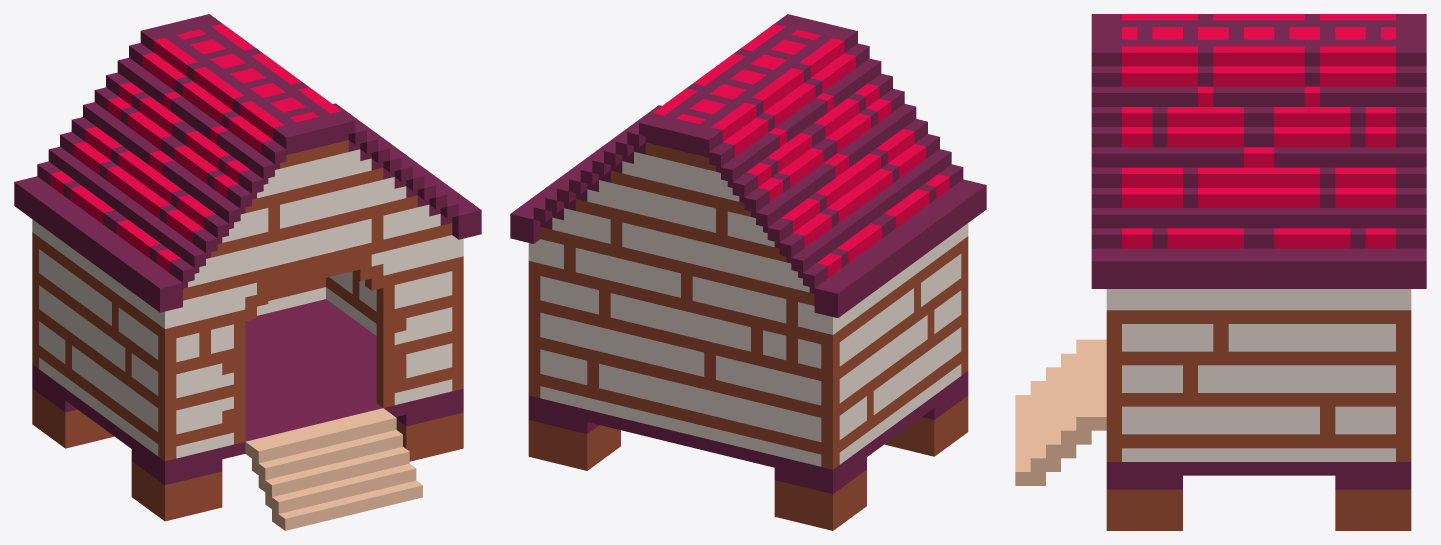
Rendered from testcoop.glb.
3 views of the same model, side by side, from view 1: azimuth 30°, elevation 25°; view 2: azimuth 150°, elevation 25°; view 3: azimuth 270°, elevation 25° (orthographic). The views are drawn at different scales.
Parts seen in each view (by area): view 1: testcoop; view 2: testcoop; view 3: testcoop.
Boxes of the visible parts, x1=… form: testcoop: x1=14, y1=14, x2=481, y2=530; testcoop: x1=510, y1=14, x2=986, y2=530; testcoop: x1=1015, y1=14, x2=1426, y2=530.
Bounding box in the file's own units: 2.8 × 3 × 2.7.
1 material, 1 textured.
